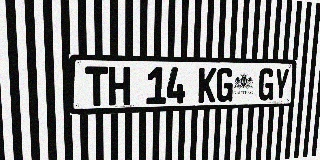1: (146, 67, 166, 104)
4: (166, 67, 186, 104)
G: (216, 68, 234, 102), (258, 68, 275, 101)
H: (109, 67, 130, 106)
K: (198, 68, 217, 103)
T: (85, 66, 108, 106)
Y: (273, 68, 290, 100)
